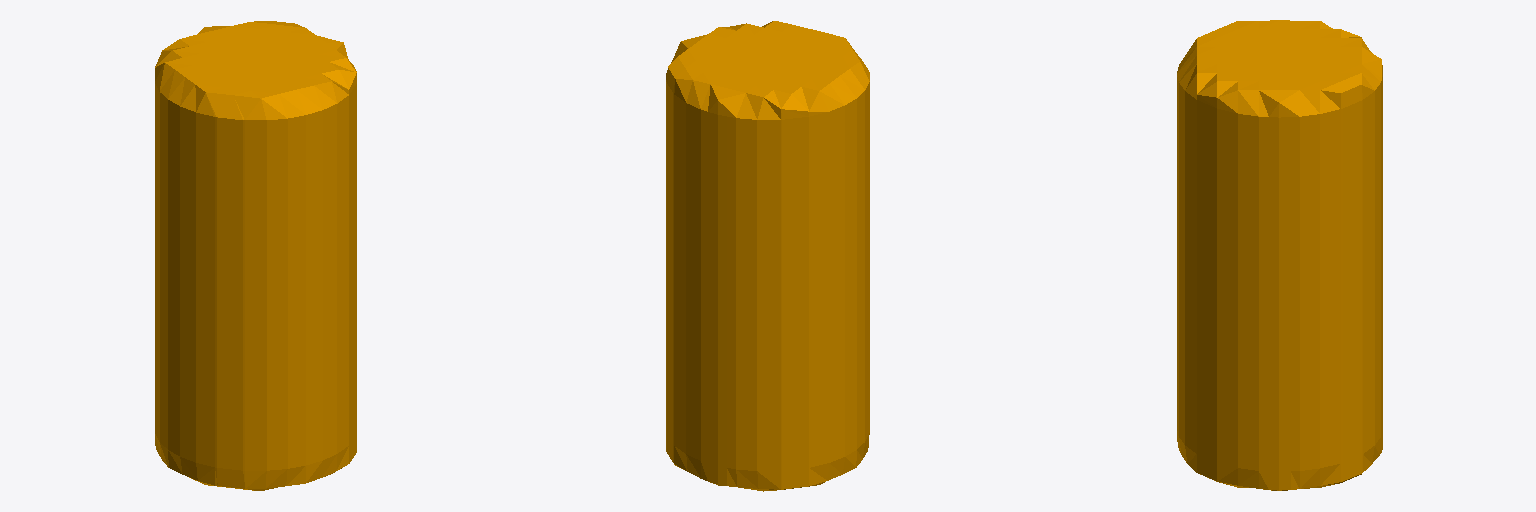
robot.urdf — cylinder_../../meshes/cylinders/cylinder_13.stl:
<?xml version="1.0" encoding="utf-8"?>  <robot name="cylinder_../../meshes/cylinders/cylinder_13.stl">   <link name="cylinder_../../meshes/cylinders/cylinder_13.stl">     <visual>       <geometry>         <mesh filename="../meshes/cylinders/cylinder_13.stl" scale="1 1 1"/>       </geometry>     </visual>     <collision>       <geometry>         <mesh filename="../meshes/cylinders/cylinder_13.stl" scale="1 1 1"/>       </geometry>     </collision>     <inertial>        <origin         xyz="0 0 0"         rpy="0 0 0" />       <mass value="0.2068141341929087"/>       <origin rpy="0 0 0" xyz="0 0 0"/>       <inertia ixx="0.00022469117662606727" ixy="-2.2331142878033885e-08" ixz="-7.649506194721408e-08" iyy="0.00022469057223450722" iyz="-7.808937836673103e-08" izz="6.395747868046717e-05"/>     </inertial>   </link>  </robot>

--- What the picture shows (computed from the rendered views, not written in the file) ---
The picture shows the robot from 3 angles, left to right: view 1: azimuth 30°, elevation 25°; view 2: azimuth 150°, elevation 25°; view 3: azimuth 270°, elevation 25°; orthographic projection.
Model cylinder_../../meshes/cylinders/cylinder_13.stl with 1 links and 0 joints (none), rooted at cylinder_../../meshes/cylinders/cylinder_13.stl, posed all joints at 0.
Links seen in each view (by area): view 1: cylinder_../../meshes/cylinders/cylinder_13.stl; view 2: cylinder_../../meshes/cylinders/cylinder_13.stl; view 3: cylinder_../../meshes/cylinders/cylinder_13.stl.
Link boxes in pixels (bbox=[...]): cylinder_../../meshes/cylinders/cylinder_13.stl: bbox=[155, 21, 356, 490]; cylinder_../../meshes/cylinders/cylinder_13.stl: bbox=[666, 21, 869, 491]; cylinder_../../meshes/cylinders/cylinder_13.stl: bbox=[1177, 20, 1382, 490].
Size in the robot's own frame: 0.0501 by 0.0501 by 0.1066 metres.
1 mesh visuals loaded from 1 distinct referenced files (1 binary STL).